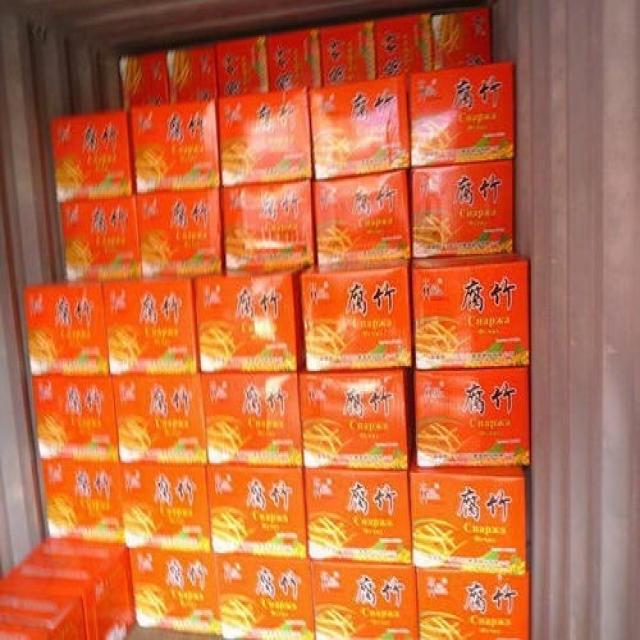box: (1, 537, 137, 638), (411, 254, 529, 369), (407, 465, 528, 572), (301, 266, 413, 370), (296, 367, 409, 470), (193, 272, 307, 374), (406, 61, 513, 168), (413, 368, 529, 466), (307, 75, 409, 180), (303, 469, 411, 564), (410, 161, 513, 259), (311, 172, 412, 271), (201, 373, 304, 468), (206, 466, 308, 560), (102, 279, 198, 376), (217, 90, 313, 186), (127, 99, 223, 195), (220, 181, 316, 276), (111, 376, 208, 465), (309, 560, 419, 638), (24, 280, 110, 378), (119, 462, 211, 553), (212, 557, 314, 638), (128, 550, 221, 637), (414, 568, 529, 638), (135, 190, 223, 280), (30, 377, 119, 463), (52, 110, 134, 203), (40, 461, 125, 545), (59, 197, 142, 283), (1, 589, 87, 638), (374, 14, 434, 78), (319, 22, 378, 86), (431, 9, 492, 69), (266, 29, 324, 92), (215, 35, 270, 97), (166, 46, 218, 103), (119, 54, 170, 109)
